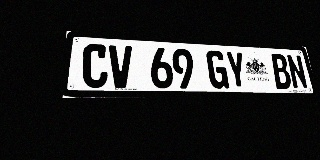6: (150, 47, 174, 88)
9: (172, 48, 196, 88)
B: (270, 54, 293, 89)
C: (82, 44, 108, 88)
G: (206, 50, 229, 89)
N: (286, 54, 309, 89)
V: (109, 45, 133, 88)
Y: (225, 51, 248, 89)
